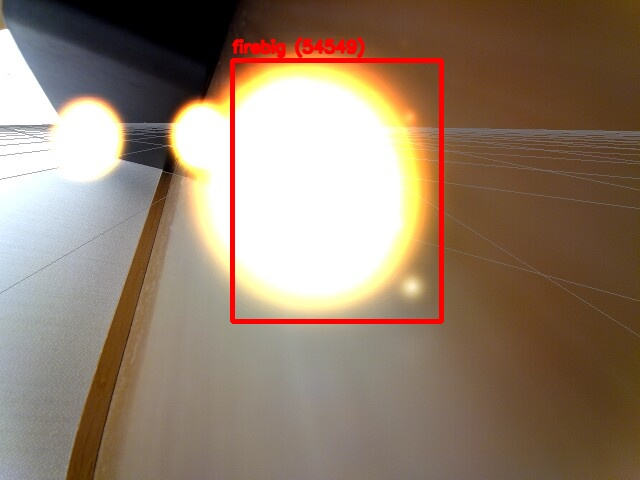firebig: (232, 60, 441, 321)
